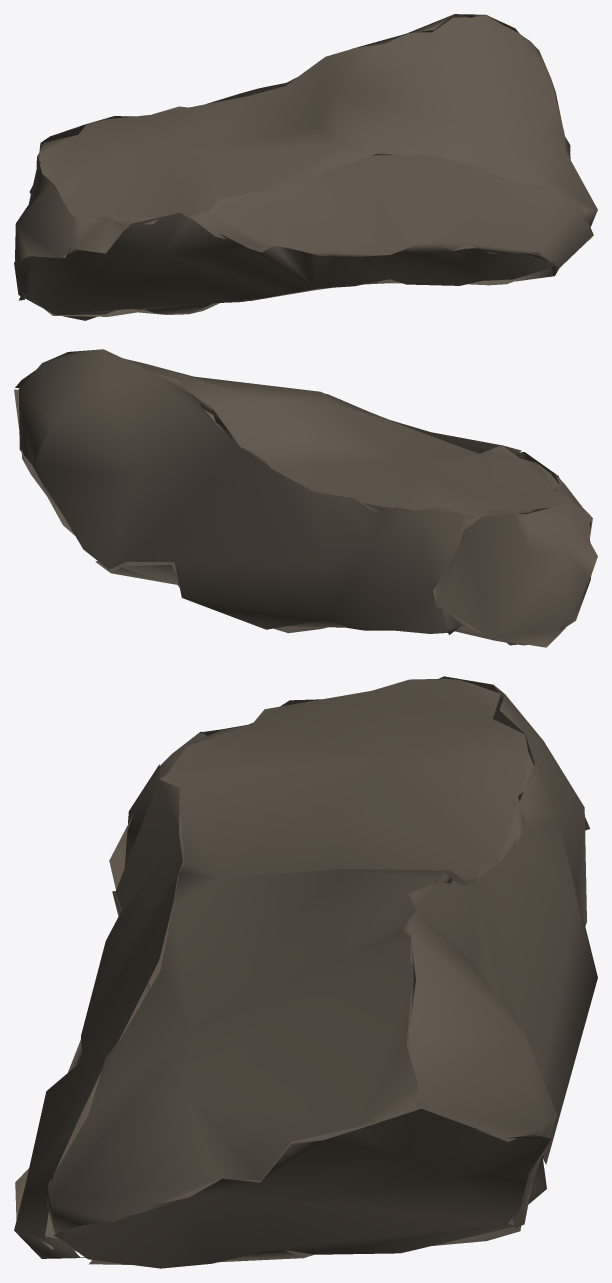
Rendered from rock-pumice-lod1.glb.
3 renders of one model, top to bottom at view 1: azimuth 30°, elevation 25°; view 2: azimuth 150°, elevation 25°; view 3: azimuth 270°, elevation 25°, orthographic. The views are drawn at different scales.
Visible parts, largest first — view 1: rock-pumice.001; view 2: rock-pumice.001; view 3: rock-pumice.001.
Boxes of the visible parts, bbox=[...] form: rock-pumice.001: bbox=[14, 14, 597, 320]; rock-pumice.001: bbox=[14, 349, 597, 647]; rock-pumice.001: bbox=[14, 676, 597, 1268].
Size of the model in its own units: 2.24 by 0.8054 by 1.18.
